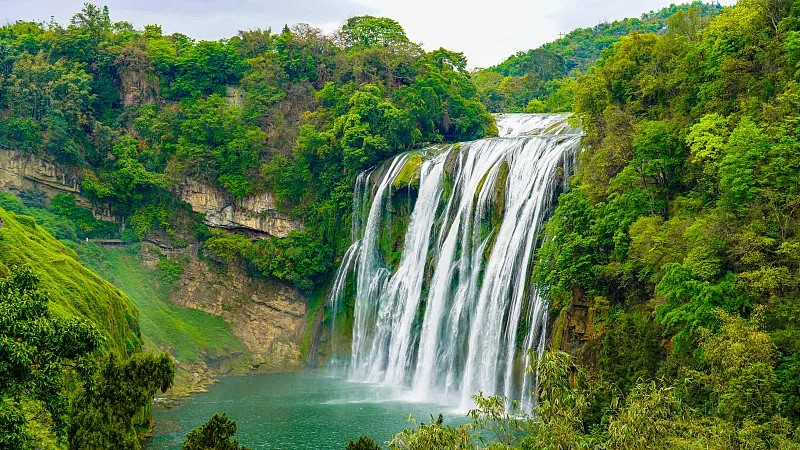Huangguoshu: (332, 113, 583, 413)
